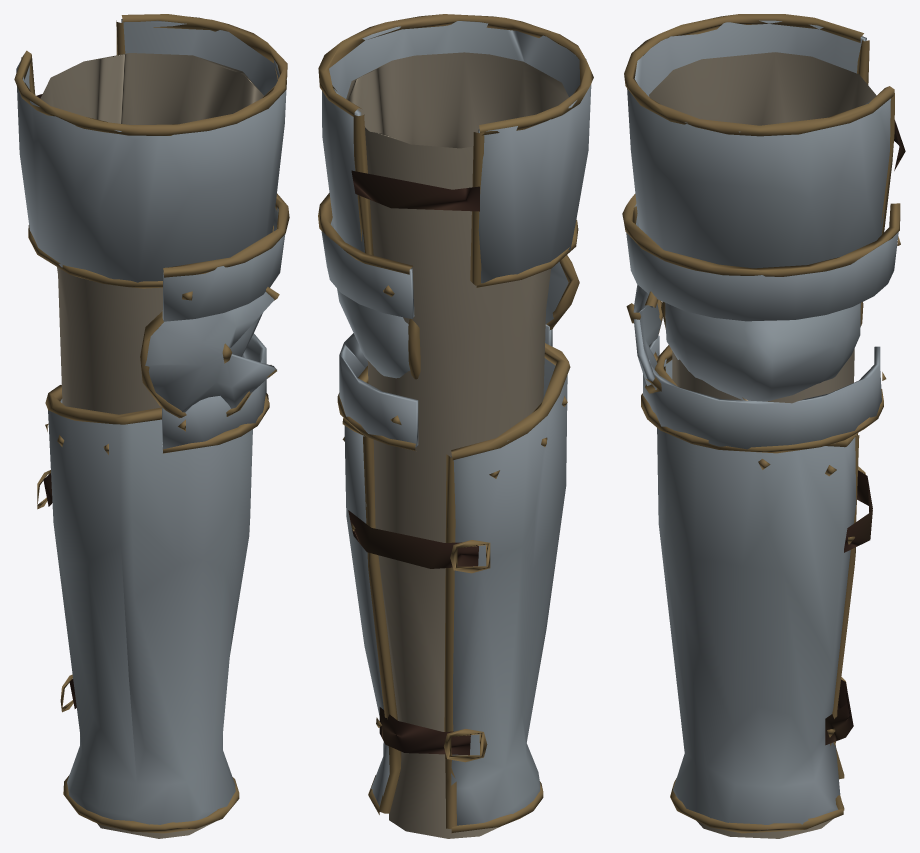
The picture shows the model from 3 angles, left to right: view 1: azimuth 30°, elevation 25°; view 2: azimuth 150°, elevation 25°; view 3: azimuth 270°, elevation 25°; orthographic projection.
Parts seen in each view (by area): view 1: hammered plate, quilted linen lining; view 2: hammered plate, quilted linen lining; view 3: hammered plate, quilted linen lining.
Boxes of the visible parts, x1,y1,x2,y2 form: hammered plate: [14, 14, 289, 833]; quilted linen lining: [36, 53, 263, 838]; hammered plate: [318, 14, 593, 833]; quilted linen lining: [346, 52, 568, 838]; hammered plate: [622, 14, 900, 833]; quilted linen lining: [649, 52, 905, 838].
Size of the model in its own units: 0.1501 by 0.4433 by 0.1537.
